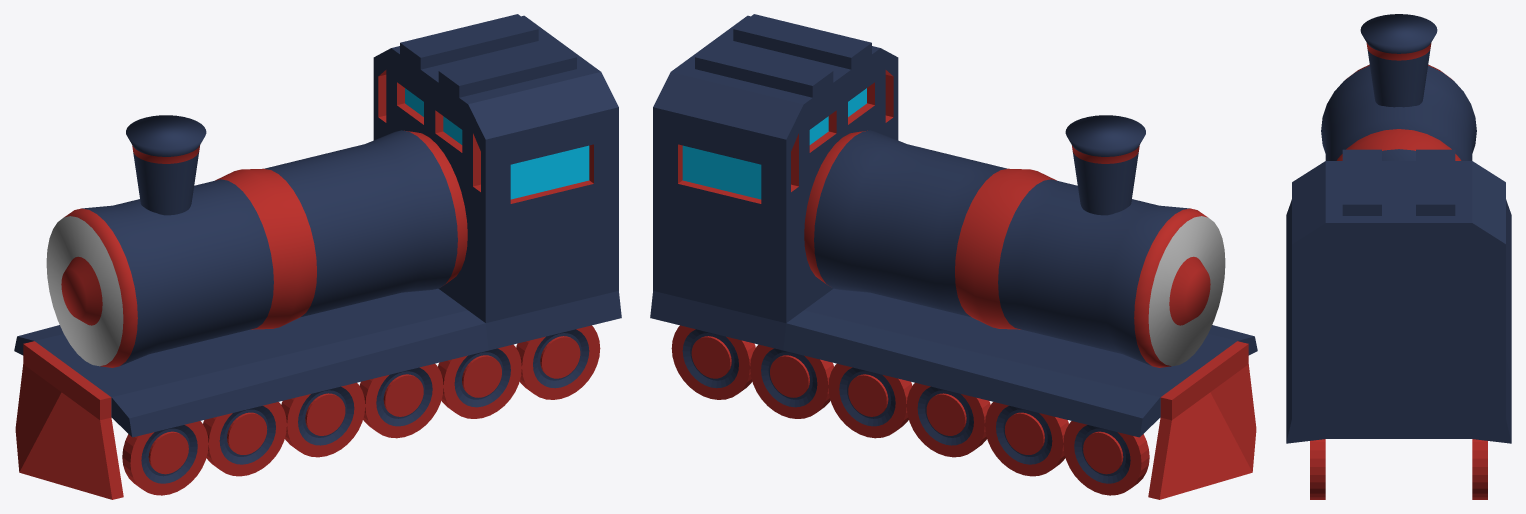
File: TrainModel04.fbx
The picture shows the model from 3 angles, left to right: view 1: azimuth 30°, elevation 25°; view 2: azimuth 150°, elevation 25°; view 3: azimuth 270°, elevation 25°; orthographic projection. The views are drawn at different scales.
Visible parts, largest first — view 1: TrainModel04; view 2: TrainModel04; view 3: TrainModel04.
Boxes of the visible parts, x1,y1,x2,y2 form: TrainModel04: [14, 14, 621, 499]; TrainModel04: [650, 14, 1257, 499]; TrainModel04: [1286, 14, 1511, 499].
Size of the model in its own units: 816 by 461 by 307.
